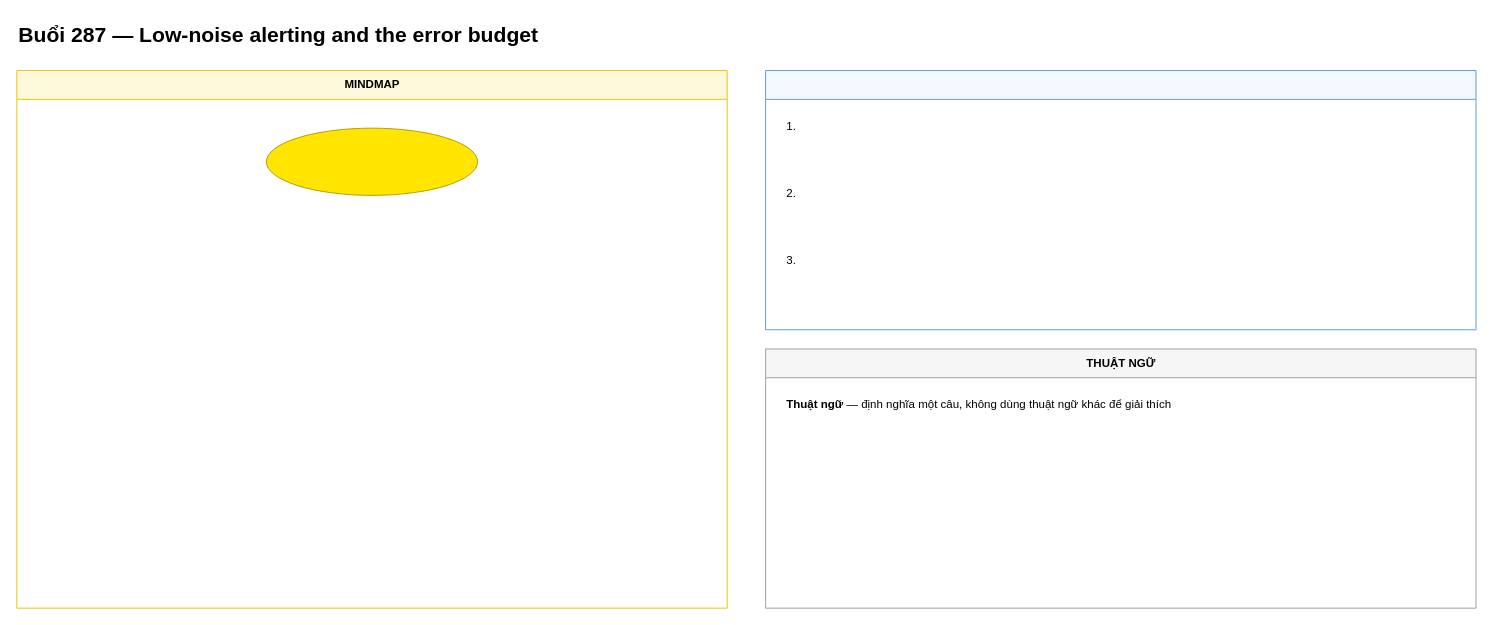
The diagram is 1493 pixels wide and 625 high, and some of its shapes have lost their labels. Each missing label, with the box of its shape:
KEY TAKEAWAY — ba điều phải nhớ: (765, 70, 1476, 330)
Low-noise alerting and the error budget: (265, 127, 478, 195)
